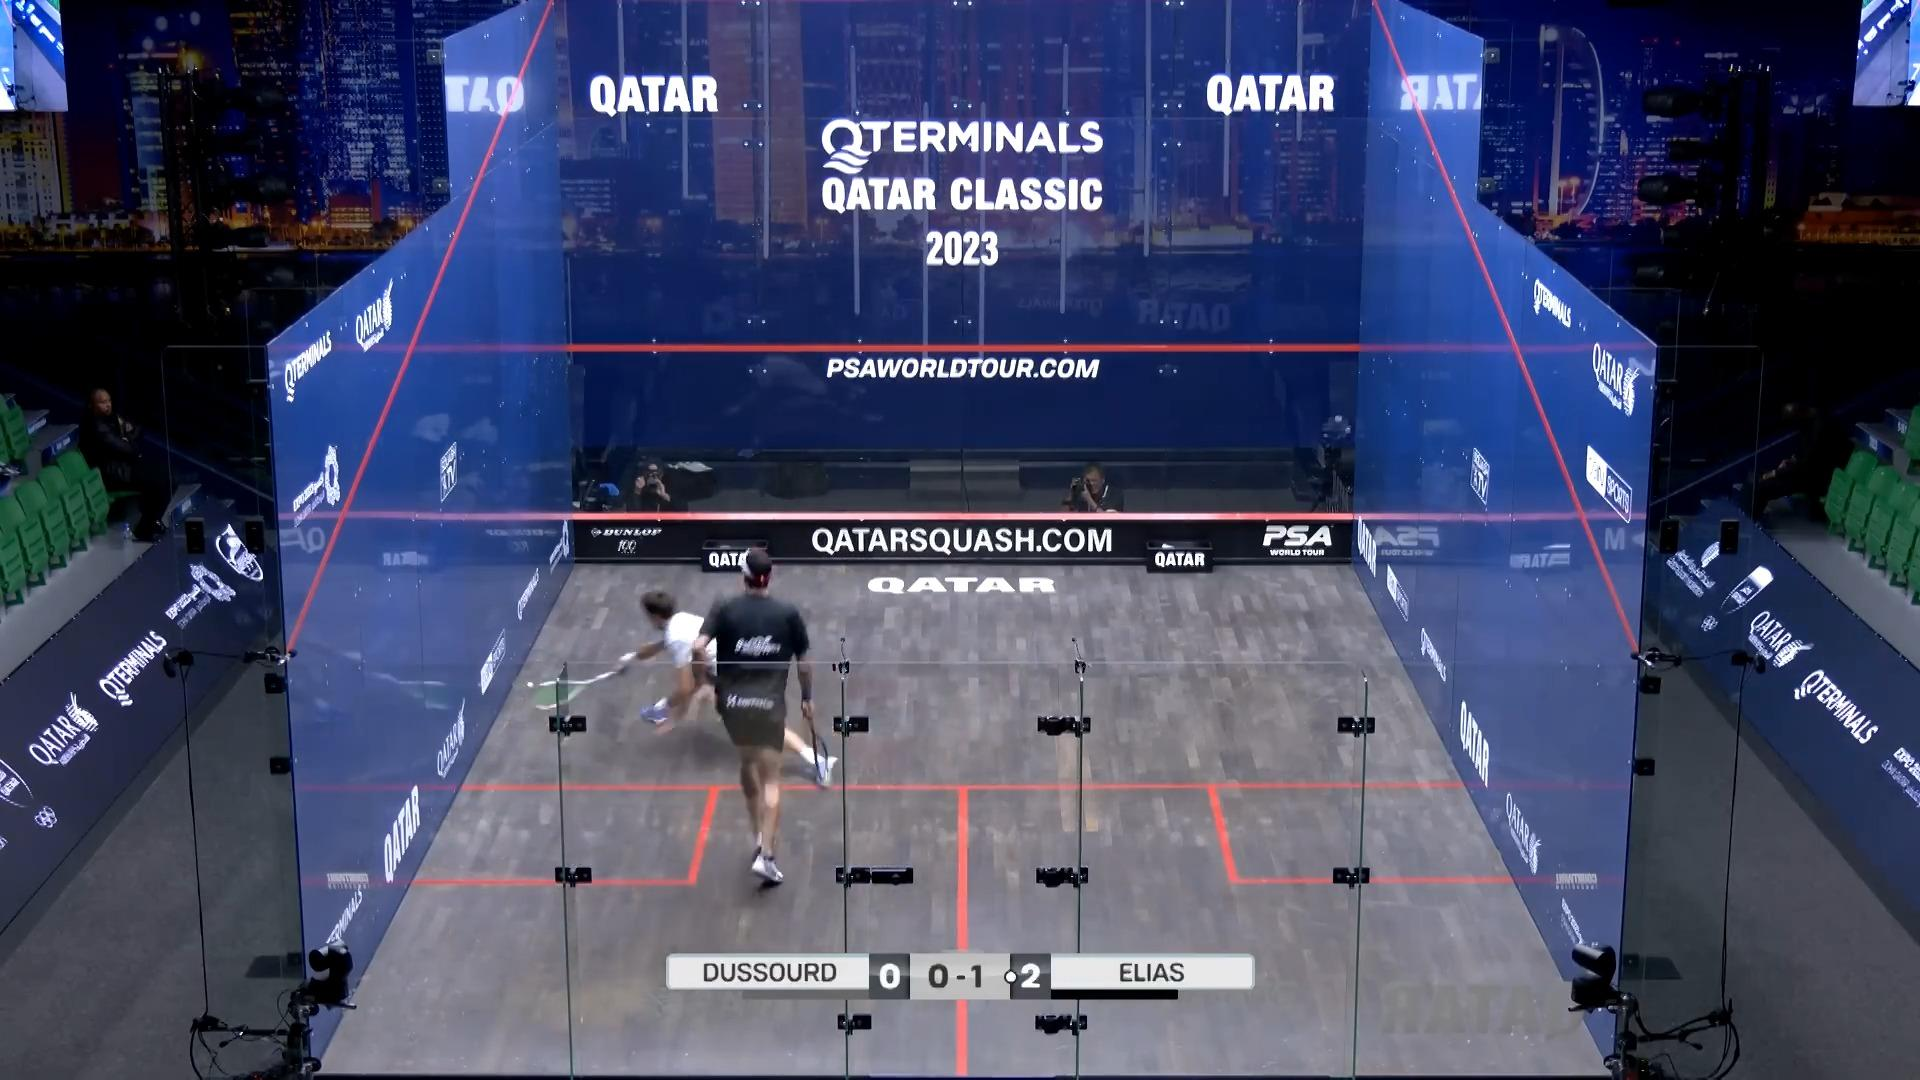Racket: (534, 663, 624, 720), (802, 716, 835, 777)
